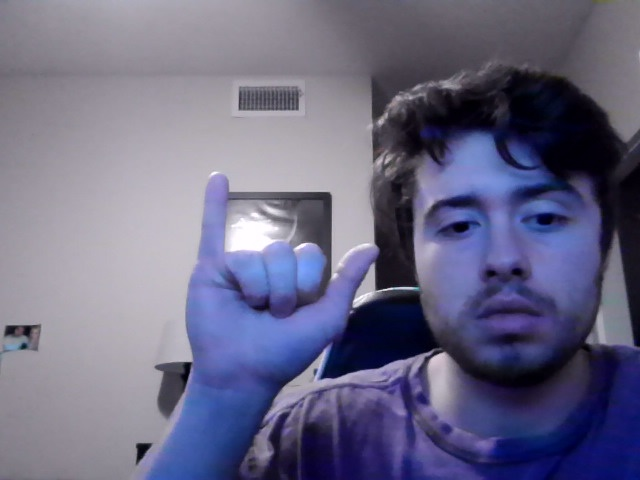y: (184, 170, 380, 412)
